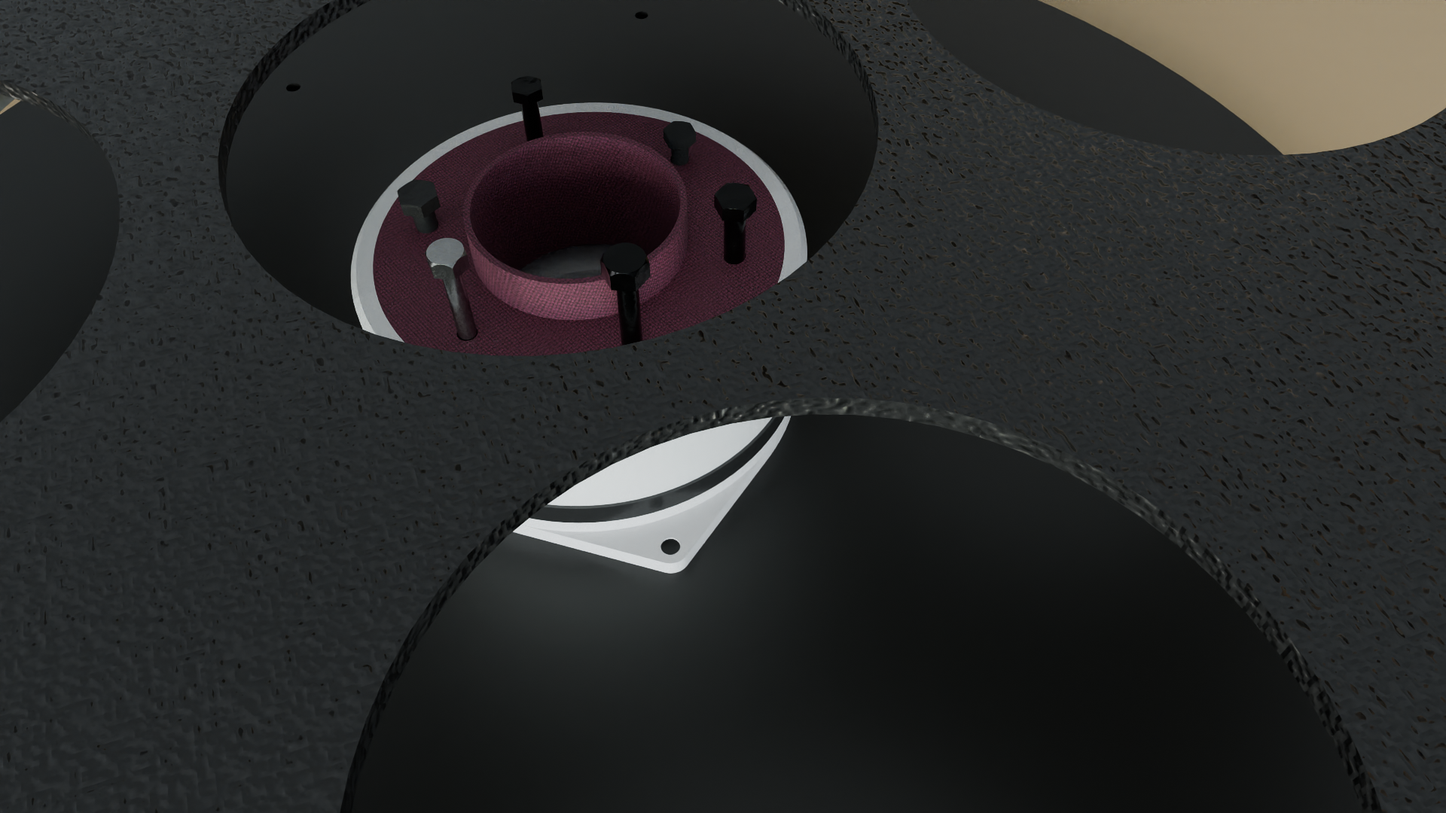bolt: (600, 242, 649, 278), (425, 238, 467, 268), (715, 183, 757, 212), (397, 180, 437, 207), (664, 121, 696, 142), (511, 75, 541, 96)
